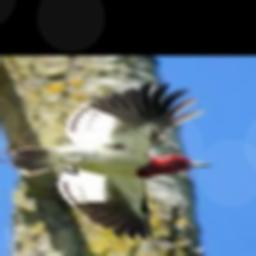Woodpecker: (1, 82, 212, 246)
